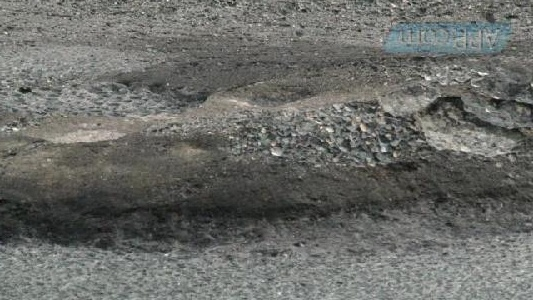pothole: (0, 54, 532, 261)
